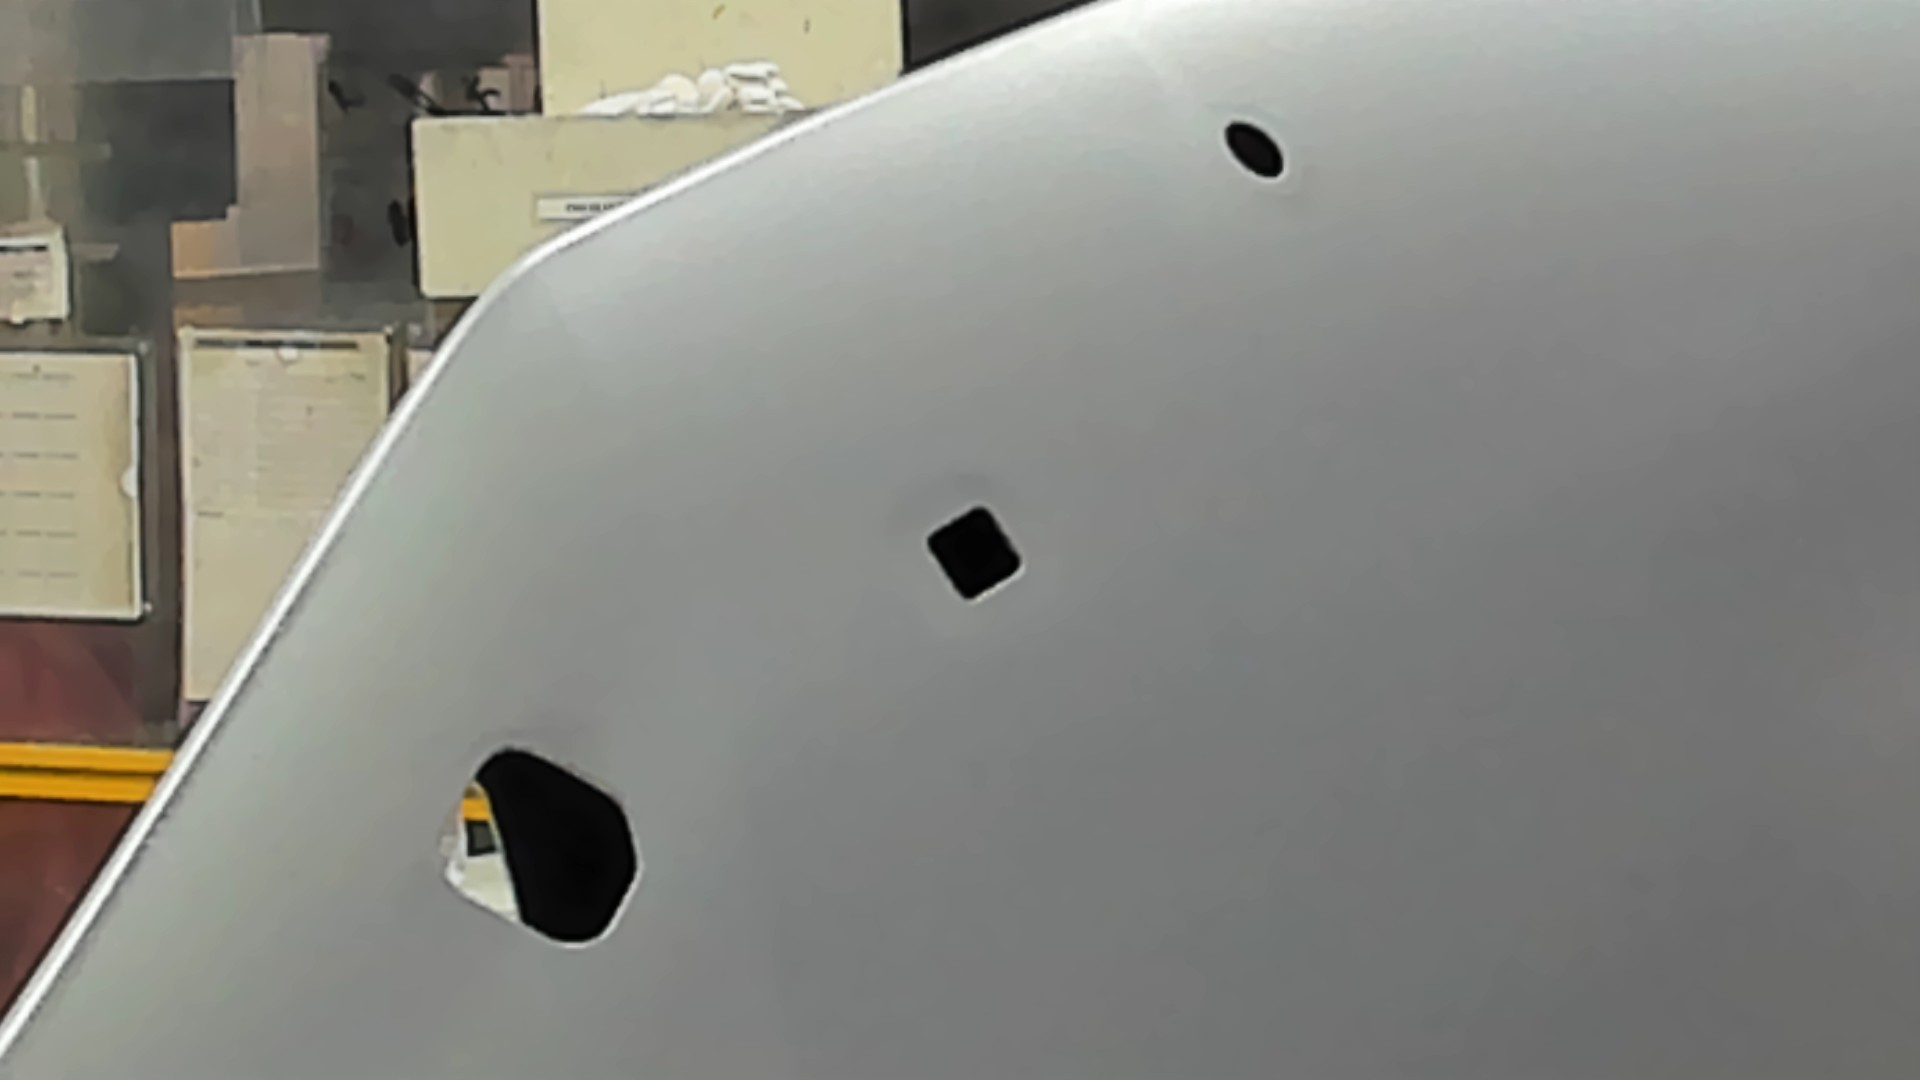capo: (1029, 185, 1920, 1080)
chico: (1216, 111, 1288, 185)
grande: (430, 742, 651, 959)
mediano: (919, 498, 1029, 611)
